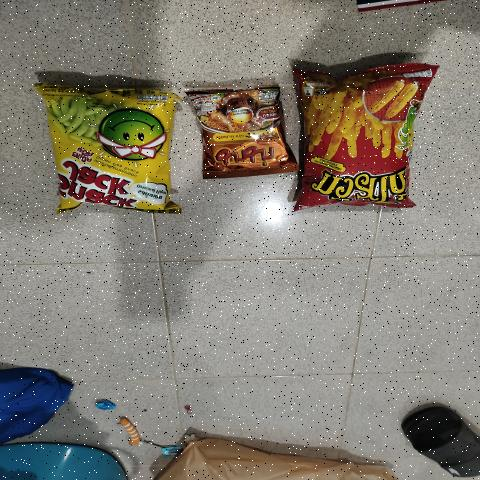mama: (210, 92, 277, 176)
snack_jack: (62, 91, 164, 206)
twisco: (302, 66, 415, 206)
